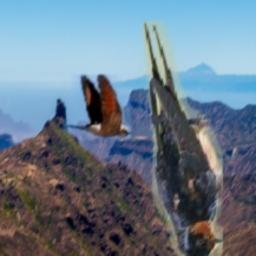Cuckoo: (63, 75, 131, 138)
Swallow: (140, 21, 224, 256)
